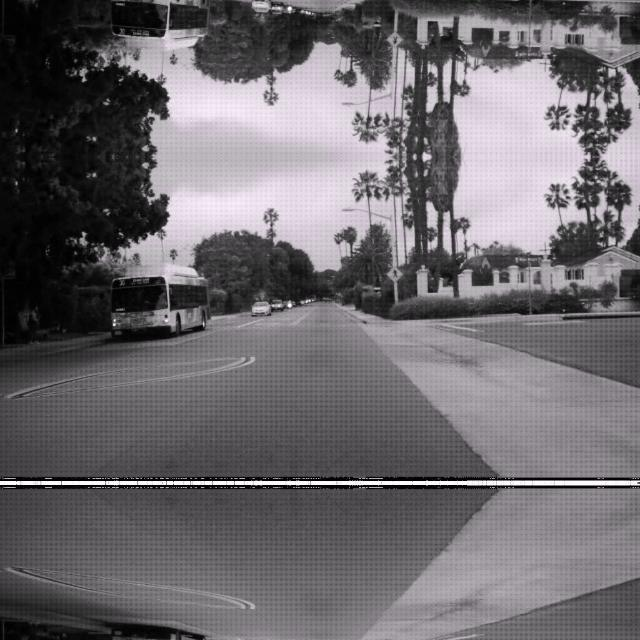pedestrianCrossing: (386, 264, 402, 282), (386, 30, 402, 48)
